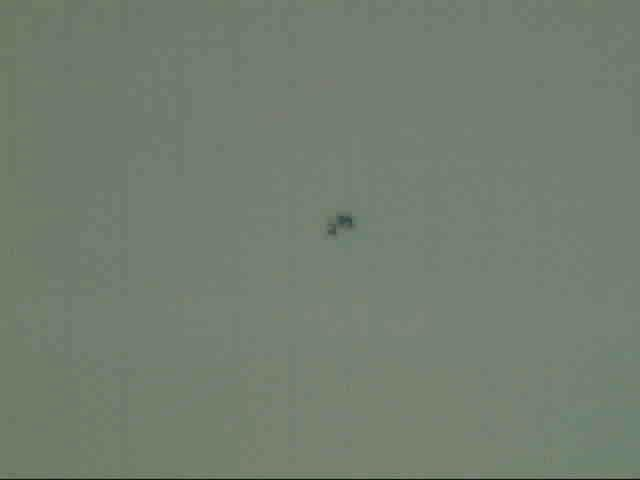PIQ PARTICLE: (320, 205, 360, 245)
